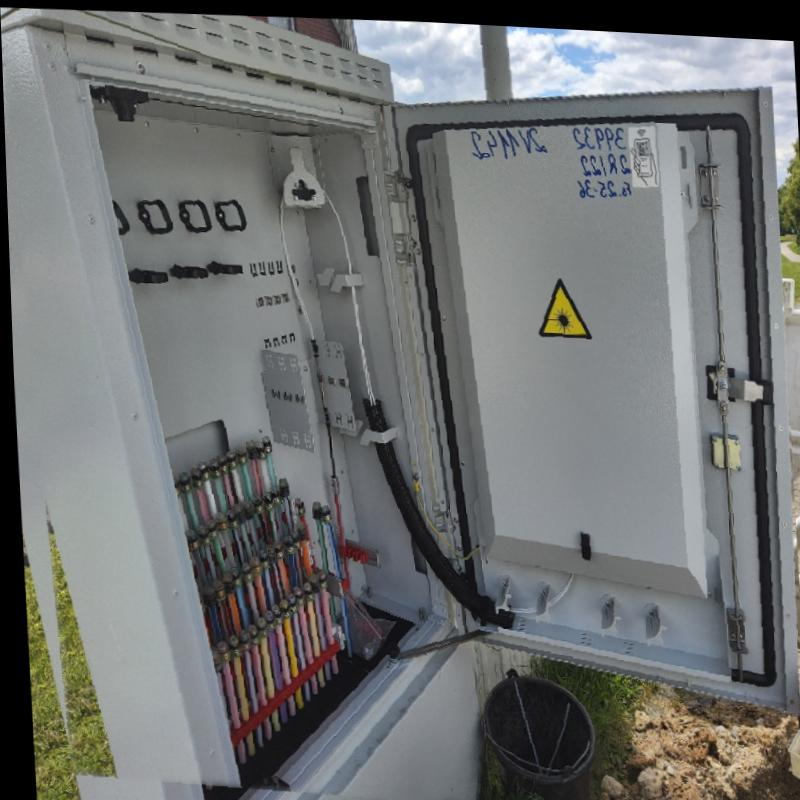NT-Gehause: (0, 7, 792, 800)
